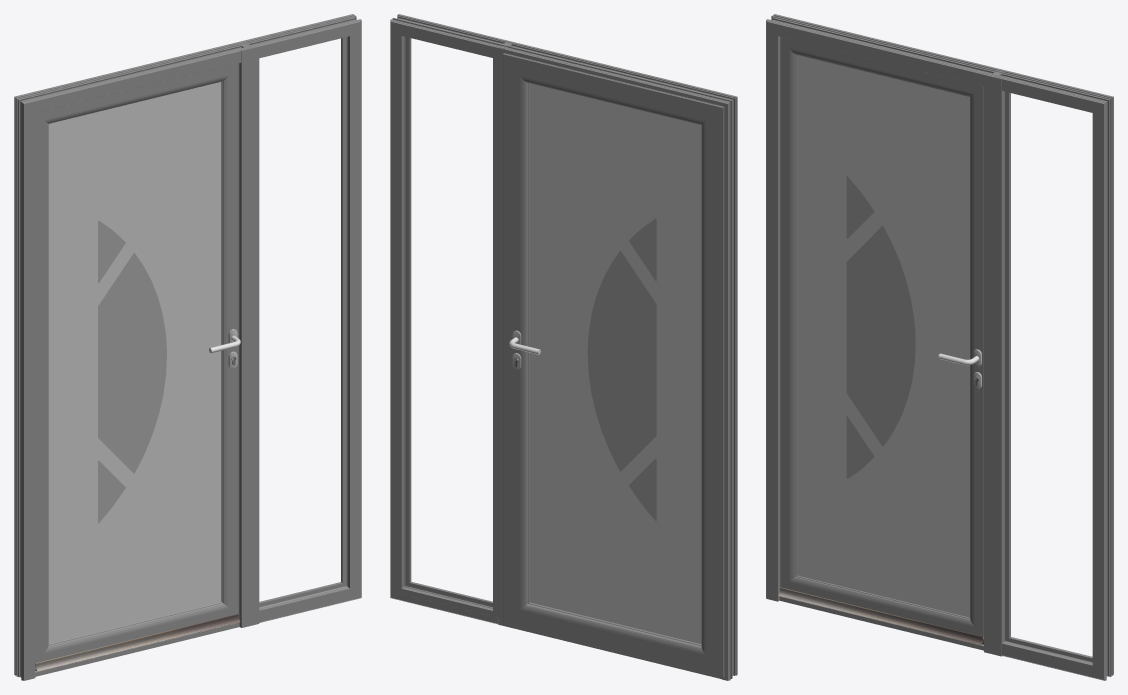
3 renders of one model, left to right at view 1: azimuth 30°, elevation 25°; view 2: azimuth 150°, elevation 25°; view 3: azimuth 330°, elevation 25°, orthographic.
Parts seen in each view (by area): view 1: fosco_28, aroFixo, aroMovel, transparente_28, montanteCentral, bite, borracha, escovas, rodaPe; view 2: fosco_28, aroMovel, aroFixo, transparente_28, bite, montanteCentral, borracha, rodaPe; view 3: fosco_28, aroFixo, aroMovel, transparente_28, montanteCentral, bite, escovas, borracha, rodaPe.
Part boxes in pixels (bbox=[...]): fosco_28: bbox=[48, 82, 221, 643]; aroFixo: bbox=[14, 14, 361, 680]; aroMovel: bbox=[35, 63, 238, 663]; transparente_28: bbox=[98, 220, 166, 523]; montanteCentral: bbox=[238, 42, 259, 627]; bite: bbox=[259, 37, 346, 607]; borracha: bbox=[259, 37, 345, 606]; escovas: bbox=[35, 614, 240, 671]; rodaPe: bbox=[35, 622, 239, 676]; fosco_28: bbox=[529, 83, 701, 644]; aroMovel: bbox=[503, 53, 724, 677]; aroFixo: bbox=[390, 14, 737, 680]; transparente_28: bbox=[587, 218, 656, 521]; bite: bbox=[396, 29, 498, 617]; montanteCentral: bbox=[498, 40, 518, 626]; borracha: bbox=[404, 36, 492, 608]; rodaPe: bbox=[505, 624, 721, 679]; fosco_28: bbox=[797, 55, 969, 617]; aroFixo: bbox=[766, 14, 1113, 680]; aroMovel: bbox=[780, 37, 983, 638]; transparente_28: bbox=[846, 176, 915, 478]; montanteCentral: bbox=[984, 70, 1004, 656]; bite: bbox=[1005, 91, 1092, 661]; escovas: bbox=[778, 587, 983, 645]; borracha: bbox=[1006, 92, 1092, 660]; rodaPe: bbox=[779, 596, 983, 650].
Size of the model in its own units: 1320 by 2149 by 185.
10 materials, 4 textured.
